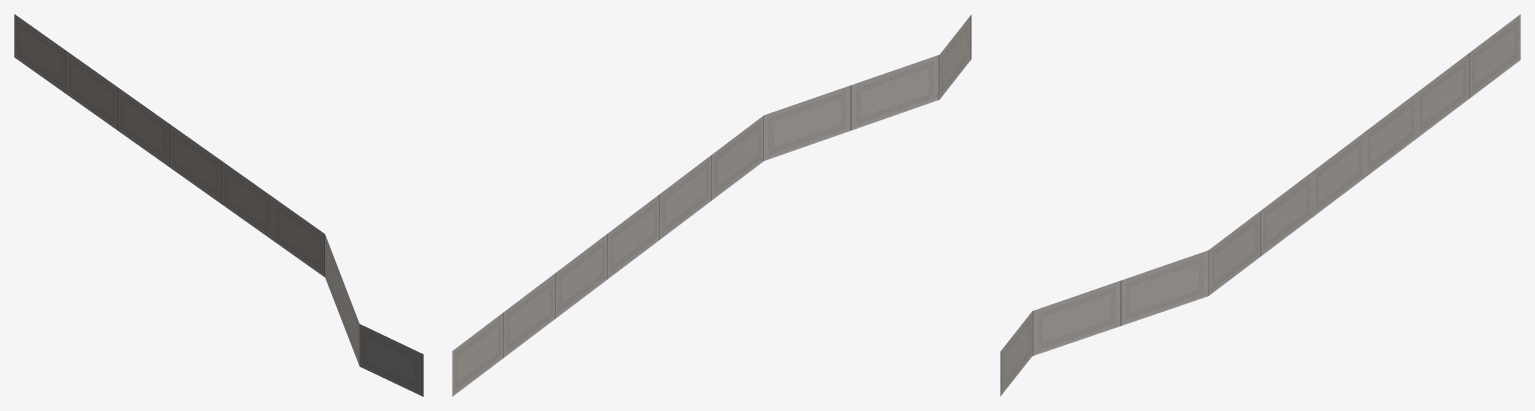
File: kd_stage_13612f_0_18_bounded.glb
3 views of the same model, side by side, from view 1: azimuth 30°, elevation 25°; view 2: azimuth 150°, elevation 25°; view 3: azimuth 330°, elevation 25° (orthographic). The views are drawn at different scales.
Parts seen in each view (by area): view 1: kd_stage_13612f_0_18_bounded; view 2: kd_stage_13612f_0_18_bounded; view 3: kd_stage_13612f_0_18_bounded.
Boxes of the visible parts, <box> form: kd_stage_13612f_0_18_bounded: <box>14,14,423,396</box>; kd_stage_13612f_0_18_bounded: <box>452,14,971,396</box>; kd_stage_13612f_0_18_bounded: <box>1000,14,1520,396</box>.
Size of the model in its own units: 1.59 by 1 by 18.78.
1 material, 1 textured.
